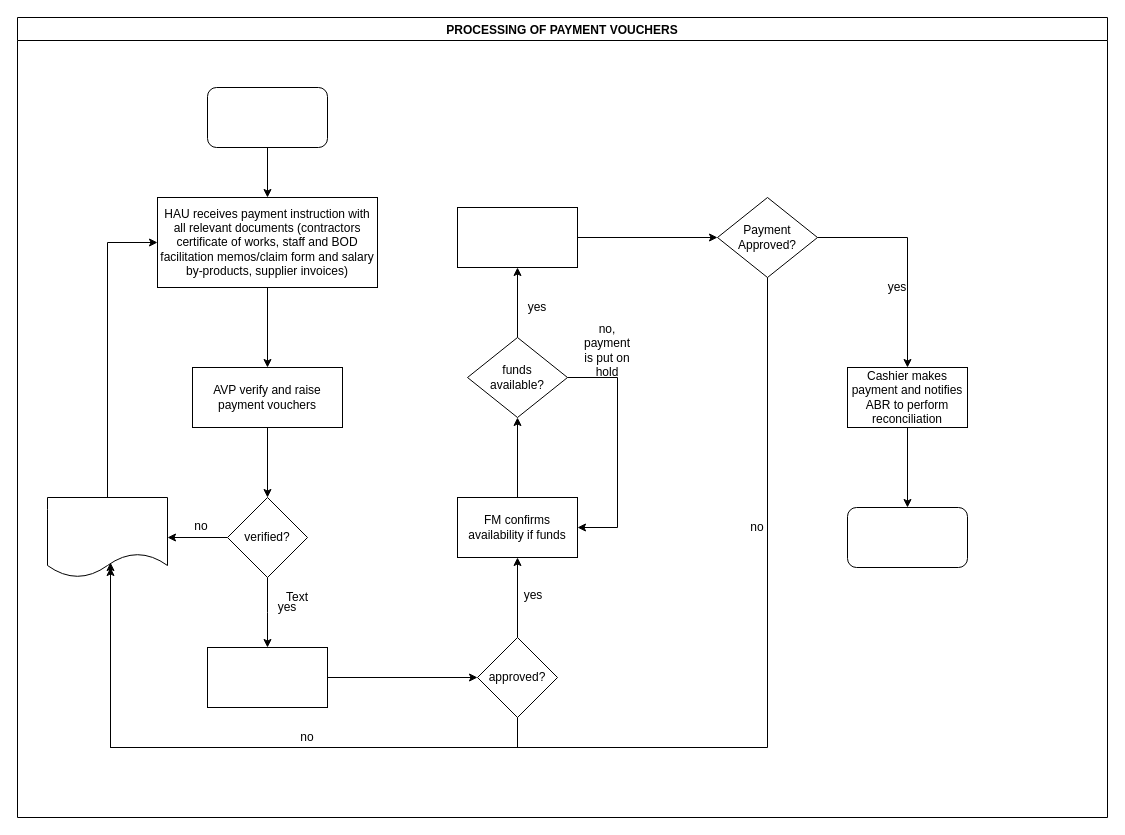
The diagram is 1125 pixels wide and 835 high, and some of its shapes have lost their labels. The centre of each missing label's shape, as x and y in pixels:
"Account Examination examines payment details" belongs at [267,677].
"Comments" belongs at [107,537].
"End" belongs at [907,537].
"Payment request is sent for approval by AIE holder/CEO" belongs at [517,237].
"Start" belongs at [267,117].
